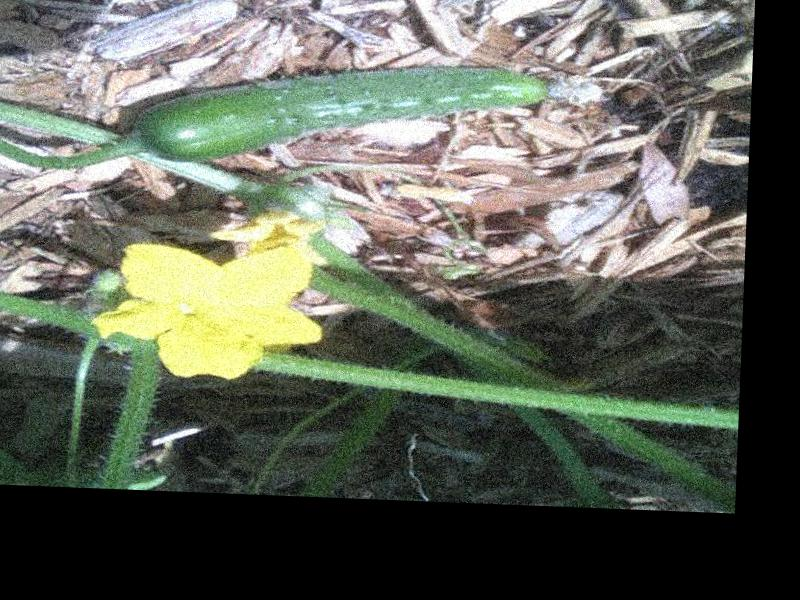Cucumber: (127, 49, 593, 178)
